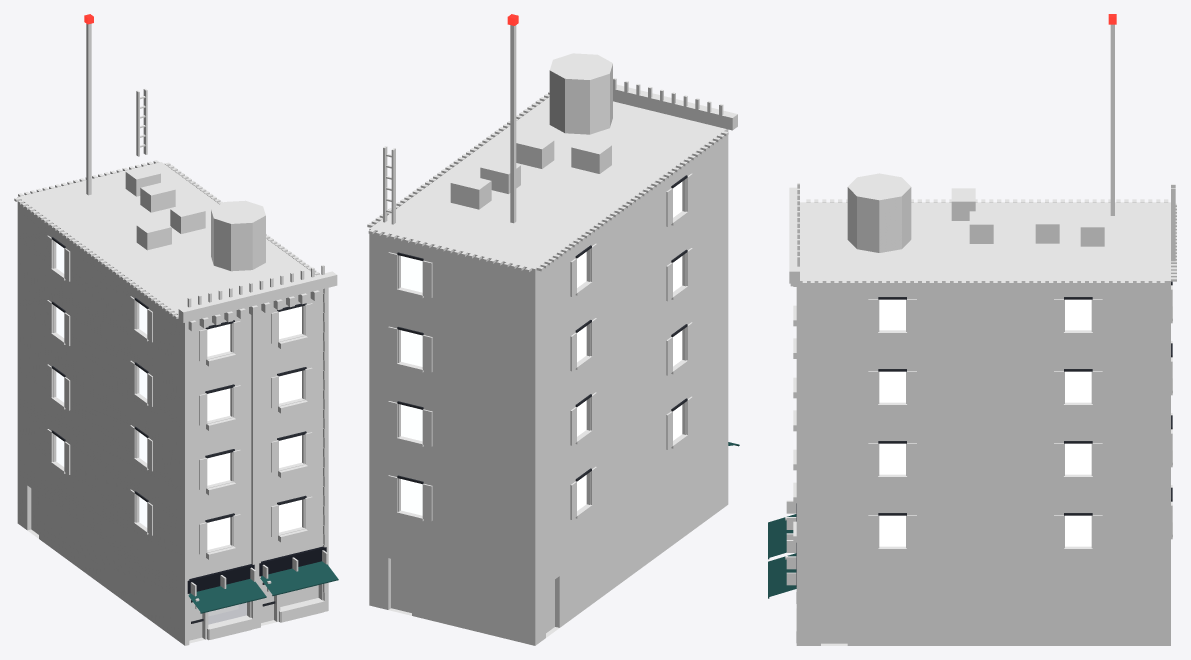
File: bld_market_02_b.glb
The picture shows the model from 3 angles, left to right: view 1: azimuth 30°, elevation 25°; view 2: azimuth 150°, elevation 25°; view 3: azimuth 270°, elevation 25°; orthographic projection. The views are drawn at different scales.
Parts seen in each view (by area): view 1: LOD0; view 2: LOD0; view 3: LOD0.
Part boxes in pixels (x1,y1,x2,y2): LOD0: (14, 14, 338, 645); LOD0: (367, 14, 739, 645); LOD0: (768, 14, 1176, 645).
Size of what is drawn, in the model's own units: 7.5 by 24 by 15.42.
